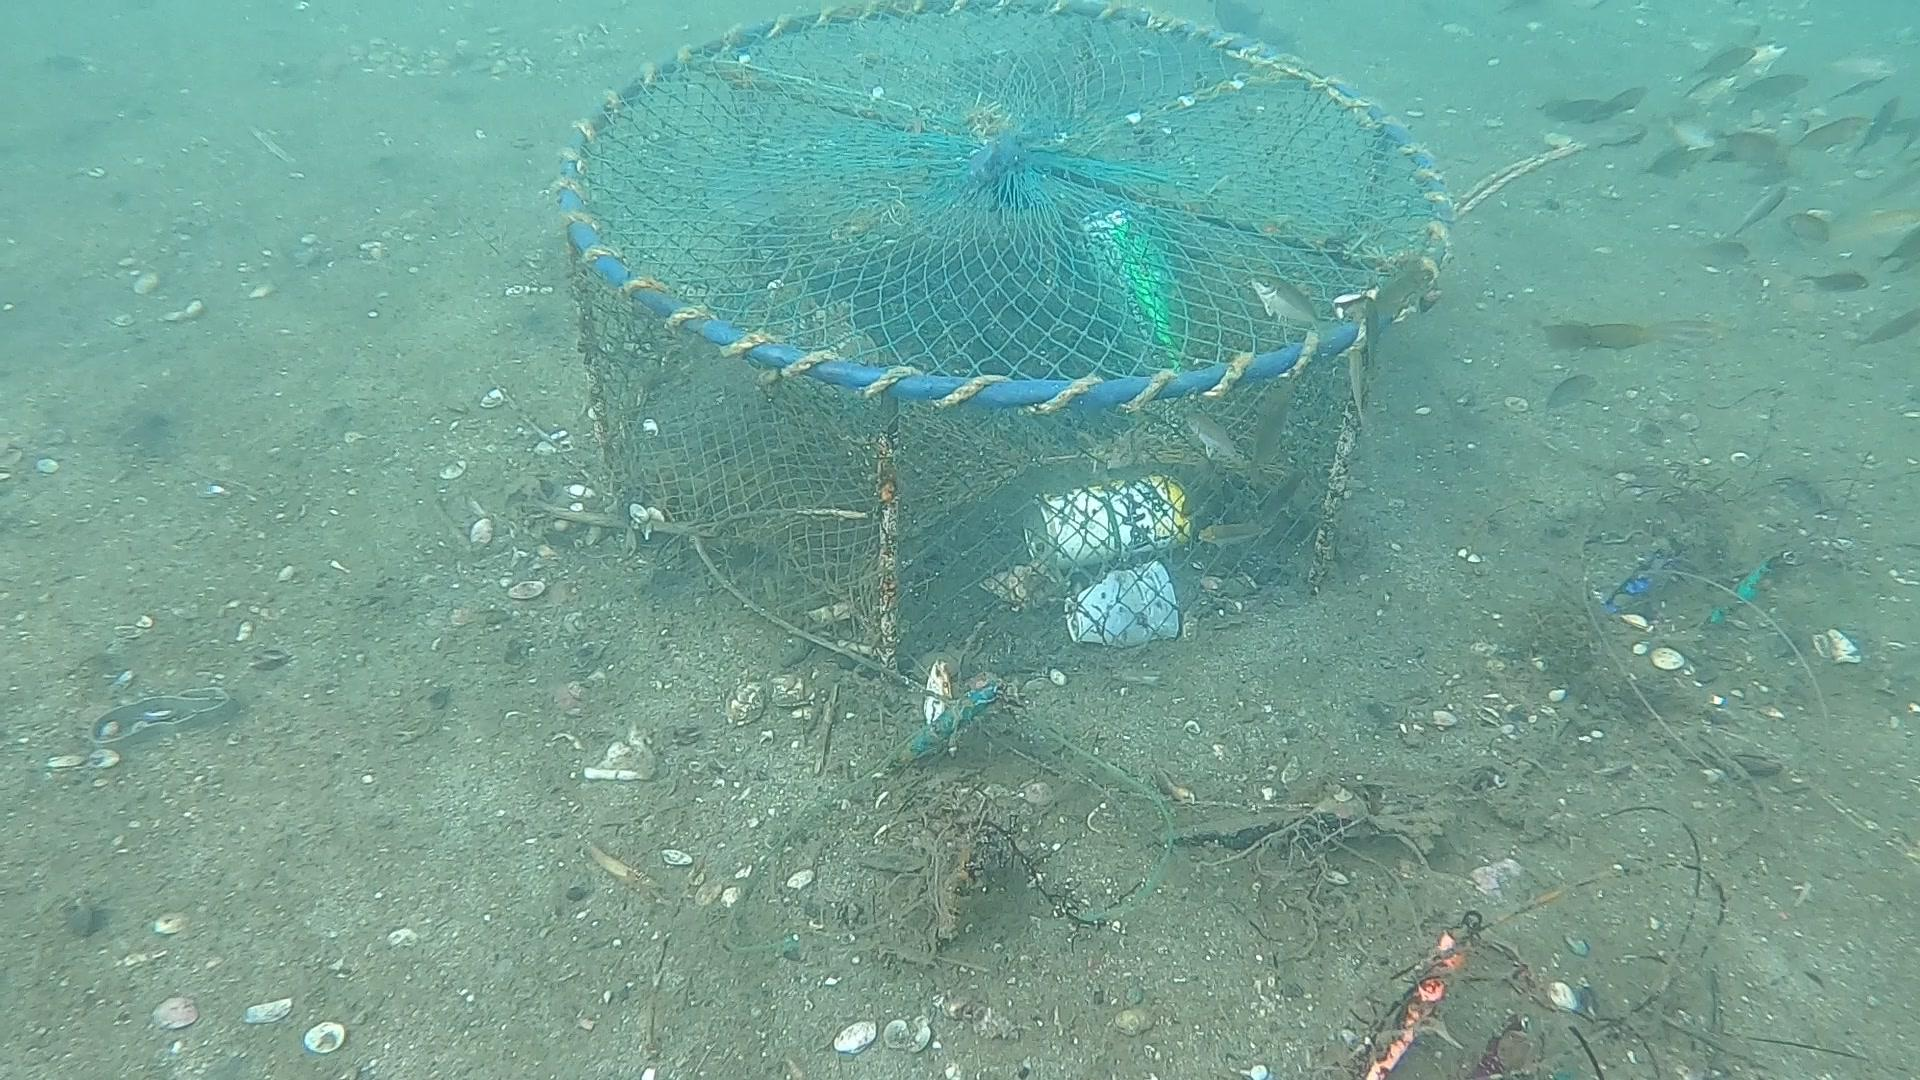bundle of ropes: (1455, 121, 1652, 239)
circular fish trap: (547, 1, 1461, 688)
